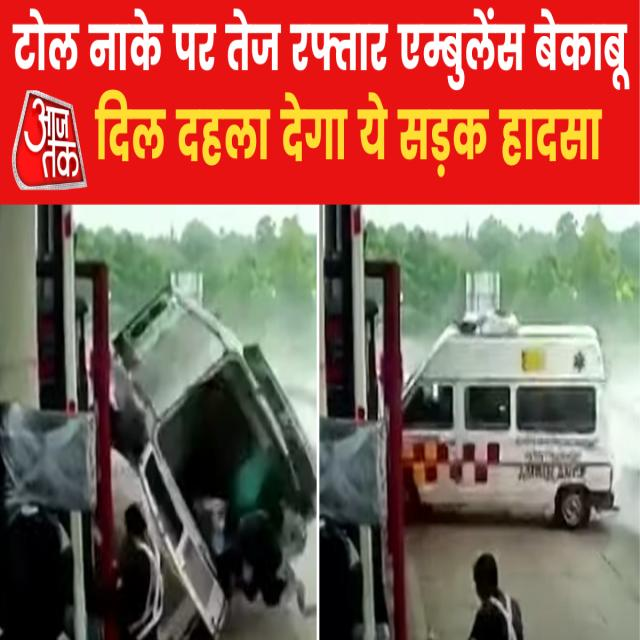accident: (111, 274, 315, 636)
emergency: (401, 273, 614, 528)
